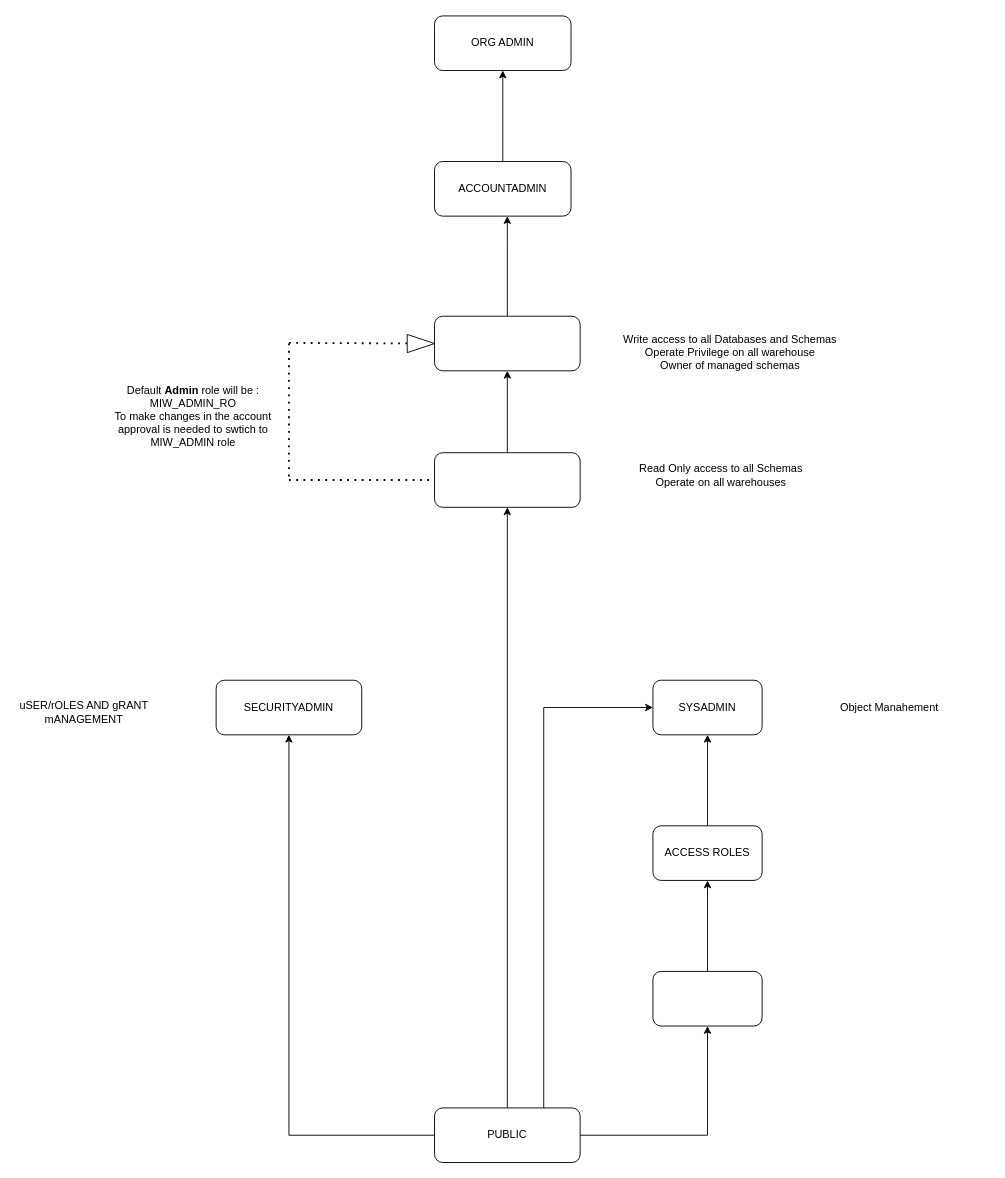
Some shapes in this 1005 by 1178 pixel diagram are drawn without their labels. The box of each missing label's shape, as (x1, y1, x2, y2) in pixels:
FUNCTIONAL ROLES: (652, 971, 762, 1026)
MIW ADMIN: (434, 315, 580, 371)
MIW_ADMIN_RO: (434, 452, 580, 507)
